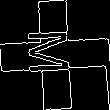M_E: (29, 31, 81, 79)
